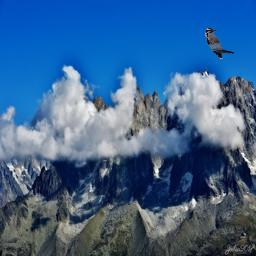Woodpecker: (205, 28, 234, 59)
